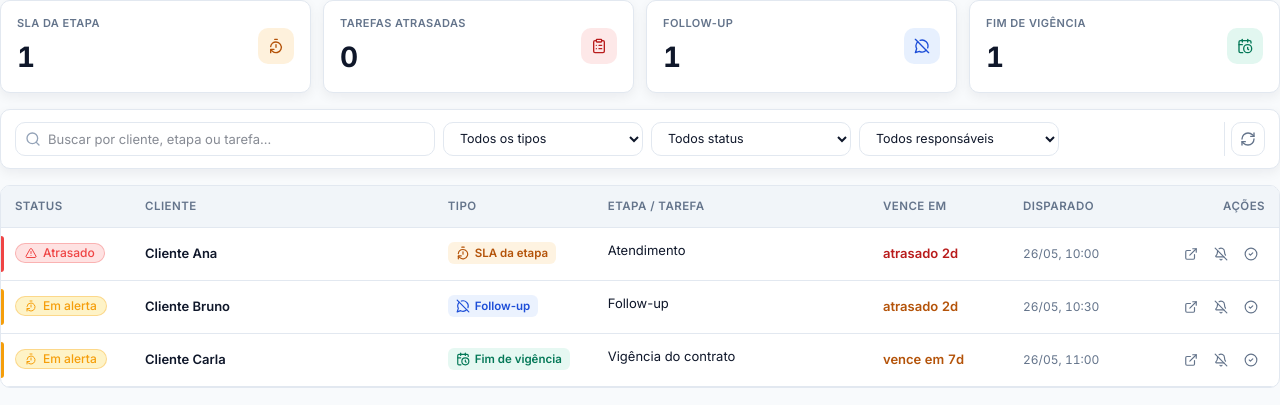
AlertsView › mostra alerta de fim de vigência no filtro, resumo e contexto da tabela
Expected: the text "Fim de vigência" in the row of "Tarefas atrasadas" is shown, [986,16,1086,30]
Expected: the text "Vigência do contrato" is shown, [608,347,735,367]
Select "Fim de vigência" in the dropdown named "Filtrar por tipo" at (543, 138), box [443,122,643,156]
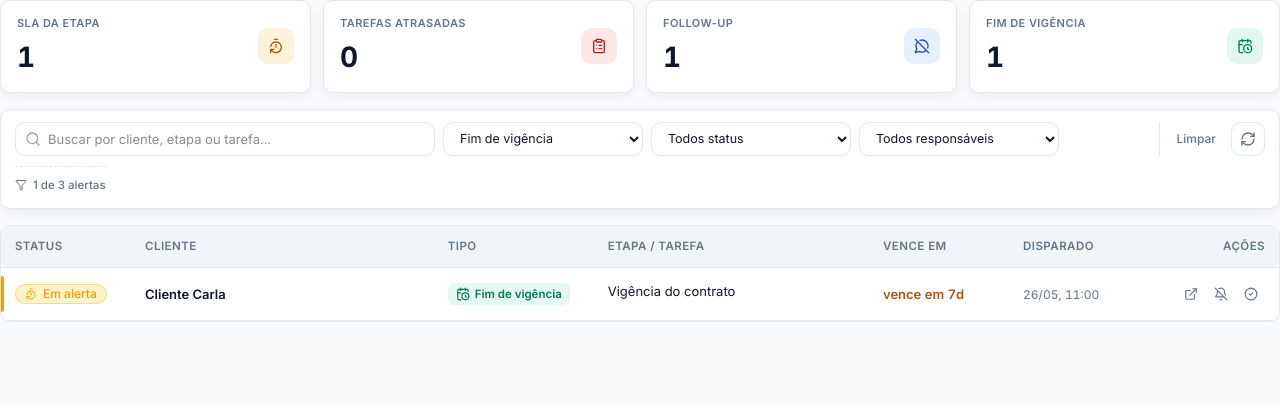
Expected: the link "Cliente Carla" is shown, [145,286,226,302]
Now the link "Cliente Ana" is gone
Now the link "Cliente Bruno" is gone
